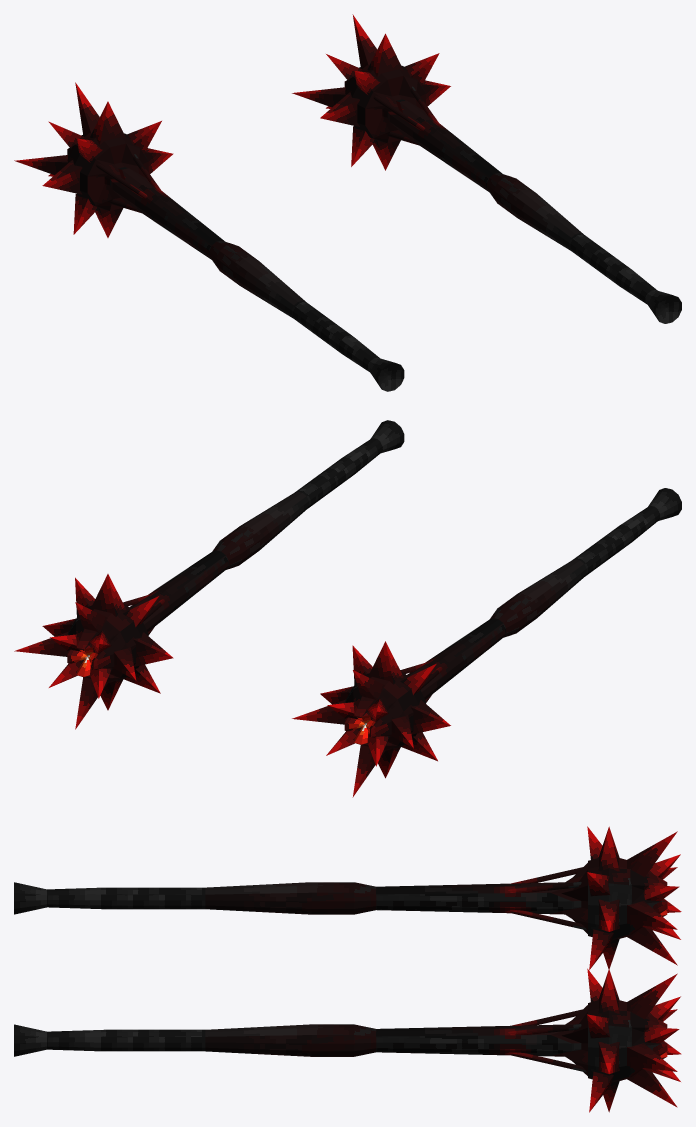
File: grimm.glb
3 views of the same model, one above another, from view 1: azimuth 30°, elevation 25°; view 2: azimuth 150°, elevation 25°; view 3: azimuth 270°, elevation 25° (orthographic). The views are drawn at different scales.
Parts seen in each view (by area): view 1: off__Tool_L, main__Tool_R; view 2: main__Tool_R, off__Tool_L; view 3: off__Tool_L, main__Tool_R.
Part boxes in pixels (left/top/right/bottom): off__Tool_L: left=14, top=82, right=404, bottom=391; main__Tool_R: left=292, top=14, right=681, bottom=323; main__Tool_R: left=14, top=420, right=404, bottom=729; off__Tool_L: left=292, top=488, right=681, bottom=797; off__Tool_L: left=14, top=826, right=681, bottom=970; main__Tool_R: left=14, top=968, right=681, bottom=1112.
Bounding box in the file's own units: 1.75 × 0.5625 × 2.36.
1 material, 1 textured.
